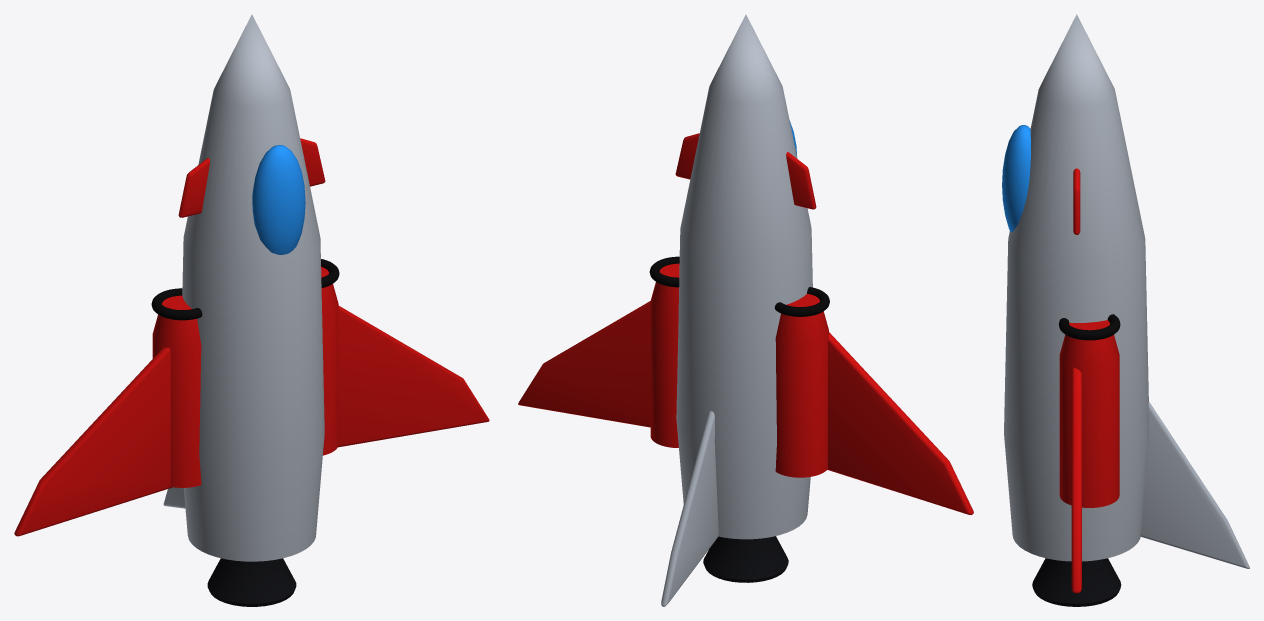
Rendered from Rocket_19_JetRocket.obj.
3 renders of one model, left to right at view 1: azimuth 30°, elevation 25°; view 2: azimuth 150°, elevation 25°; view 3: azimuth 270°, elevation 25°, orthographic. The views are drawn at different scales.
Parts seen in each view (by area): view 1: R19_Body, R19_Wing_2, R19_Wing, R19_Intake_2, R19_Cockpit, R19_Nozzle, R19_Intake, R19_Canard_2, R19_IntakeLip_2, R19_Canard; view 2: R19_Body, R19_Wing_2, R19_Wing, R19_Intake_2, R19_Tail, R19_Intake, R19_Nozzle, R19_Canard_2, R19_IntakeLip_2, R19_Canard; view 3: R19_Body, R19_Intake, R19_Tail, R19_Nozzle, R19_Wing, R19_Cockpit, R19_IntakeLip, R19_Canard.
Boxes of the visible parts, left/top/right/bottom form: R19_Body: left=182, top=14, right=324, bottom=561; R19_Wing_2: left=14, top=347, right=172, bottom=536; R19_Wing: left=338, top=306, right=489, bottom=447; R19_Intake_2: left=152, top=295, right=201, bottom=487; R19_Cockpit: left=252, top=145, right=305, bottom=254; R19_Nozzle: left=207, top=558, right=296, bottom=606; R19_Intake: left=321, top=266, right=338, bottom=455; R19_Canard_2: left=178, top=157, right=209, bottom=217; R19_IntakeLip_2: left=151, top=288, right=202, bottom=320; R19_Canard: left=300, top=138, right=325, bottom=186; R19_Body: left=676, top=14, right=812, bottom=539; R19_Wing_2: left=827, top=332, right=973, bottom=514; R19_Wing: left=518, top=301, right=650, bottom=427; R19_Intake_2: left=775, top=293, right=828, bottom=477; R19_Tail: left=661, top=411, right=718, bottom=606; R19_Intake: left=650, top=263, right=679, bottom=447; R19_Nozzle: left=703, top=536, right=788, bottom=582; R19_Canard_2: left=786, top=152, right=816, bottom=209; R19_IntakeLip_2: left=774, top=287, right=829, bottom=316; R19_Canard: left=675, top=133, right=699, bottom=179; R19_Body: left=1004, top=14, right=1149, bottom=561; R19_Intake: left=1059, top=320, right=1119, bottom=507; R19_Tail: left=1140, top=402, right=1249, bottom=568; R19_Nozzle: left=1032, top=558, right=1121, bottom=606; R19_Wing: left=1071, top=367, right=1081, bottom=593; R19_Cockpit: left=1002, top=125, right=1030, bottom=232; R19_IntakeLip: left=1058, top=314, right=1120, bottom=340; R19_Canard: left=1073, top=168, right=1080, bottom=234.
Bounding box in the file's own units: 6.37 × 7.4 × 2.89.
